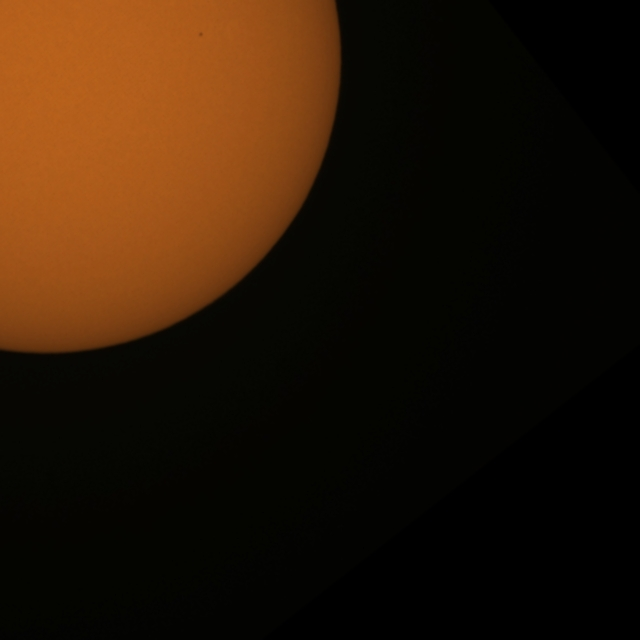sunspot: (197, 31, 204, 39)
